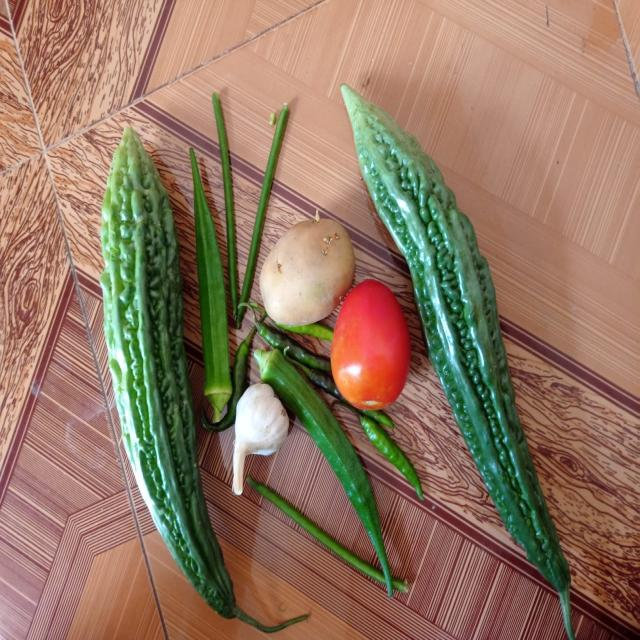Organik: (94, 123, 201, 600), (176, 133, 238, 412), (222, 95, 271, 323), (335, 276, 410, 414), (262, 224, 354, 324), (228, 383, 296, 478), (362, 415, 432, 500)
